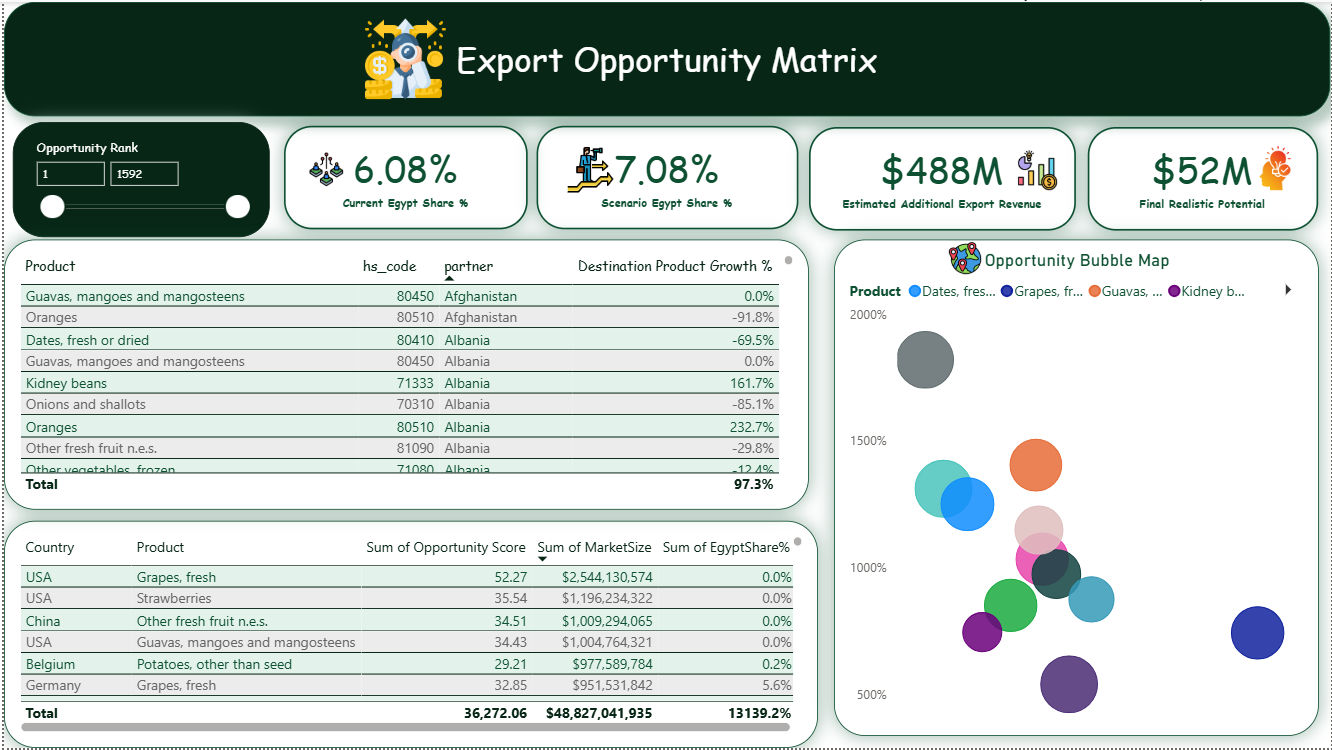

This screenshot's page, from the dashboard's own definition file:
{"tool":"powerbi","page":{"name":"Export Opportunity Matrix","canvas":[1280,720],"ordinal":2},"visuals":[{"type":"card","fields":{"Values":["Opportunity_Matrix.Current Egypt Share %"]},"box":[270.4,120,235.5,100.3],"z":0},{"type":"card","fields":{"Values":["Opportunity_Matrix.Scenario Egypt Share %"]},"box":[514,120,252.5,100.3],"z":1000},{"type":"card","fields":{"Values":["Opportunity_Matrix.Estimated Additional Export Revenue"]},"box":[777.3,120.9,257.9,100.3],"z":2000},{"type":"card","fields":{"Values":["Opportunity_Matrix.Final Realistic Potential"]},"box":[1046,120.9,222.1,100.3],"z":3000},{"type":"tableEx","fields":{"Values":["DIM_COUNTRY.Country","DIM_PRODUCT.Product","Sum(Opportunity_Matrix.Opportunity Score)","Sum(Opportunity_Matrix.MarketSize)","Sum(Opportunity_Matrix.EgyptShare%)"]},"box":[0,500.9,785.9,218.8],"z":4000},{"type":"slicer","fields":{"Values":["Opportunity_Matrix.Has Competitor Benchmark"]},"box":[836,377.2,281.9,98.2],"z":5000},{"type":"scatterChart","title":"Opportunity Bubble Map","fields":{"Series":["DIM_PRODUCT.Product"],"Size":["Sum(Opportunity_Matrix.Opportunity Score)"],"X":["Sum(Opportunity_Matrix.MarketSize)"],"Y":["Sum(Opportunity_Matrix.Global Market Growth %)"]},"box":[800.5,229.5,467.8,479.5],"z":6000},{"type":"textbox","box":[0,0,1280,110.7],"z":7000},{"type":"slicer","fields":{"Values":["Opportunity_Matrix.Opportunity Rank"]},"box":[8.1,115.5,248.1,111],"z":8000},{"type":"tableEx","fields":{"Values":["DIM_PRODUCT.Product","egypt_by_destination.hs_code","destinations_all.partner","destinations_all.Destination Product Growth %"]},"box":[0,229.5,777.1,260.7],"z":9000},{"type":"image","box":[538.8,133.3,53.5,58.4],"z":11000},{"type":"image","box":[340.4,8.8,94.3,93.4],"z":12000},{"type":"image","box":[969.7,137.1,55.4,49.6],"z":13000},{"type":"image","box":[886.1,226.6,83.6,40.9],"z":14000},{"type":"image","box":[289.8,140.1,43.8,43.8],"z":15000},{"type":"image","box":[1199.3,129.4,55.4,62.2],"z":16000}]}

Visuals, with their boxes in screenshot pixels (x1, y1, x2, y2), scaled from the page's 1280x720 canvas onto the 1332x750 screenshot:
card - Opportunity_Matrix.Current Egypt Share %: bbox=[281, 125, 526, 229]
card - Opportunity_Matrix.Scenario Egypt Share %: bbox=[535, 125, 798, 229]
card - Opportunity_Matrix.Estimated Additional Export Revenue: bbox=[809, 126, 1077, 230]
card - Opportunity_Matrix.Final Realistic Potential: bbox=[1088, 126, 1320, 230]
tableEx - DIM_COUNTRY.Country x DIM_PRODUCT.Product: bbox=[0, 522, 818, 749]
slicer - Opportunity_Matrix.Has Competitor Benchmark: bbox=[870, 393, 1163, 495]
"Opportunity Bubble Map" scatterChart: bbox=[833, 239, 1320, 739]
textbox: bbox=[0, 0, 1331, 115]
slicer - Opportunity_Matrix.Opportunity Rank: bbox=[8, 120, 267, 236]
tableEx - DIM_PRODUCT.Product x egypt_by_destination.hs_code: bbox=[0, 239, 809, 511]
image: bbox=[561, 139, 616, 200]
image: bbox=[354, 9, 452, 106]
image: bbox=[1009, 143, 1067, 194]
image: bbox=[922, 236, 1009, 279]
image: bbox=[302, 146, 347, 192]
image: bbox=[1248, 135, 1306, 200]
